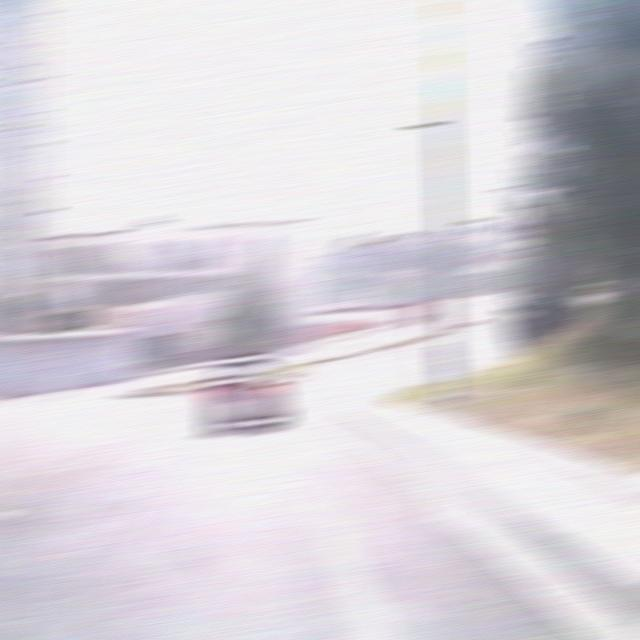stop_sign: (399, 296, 431, 325)
